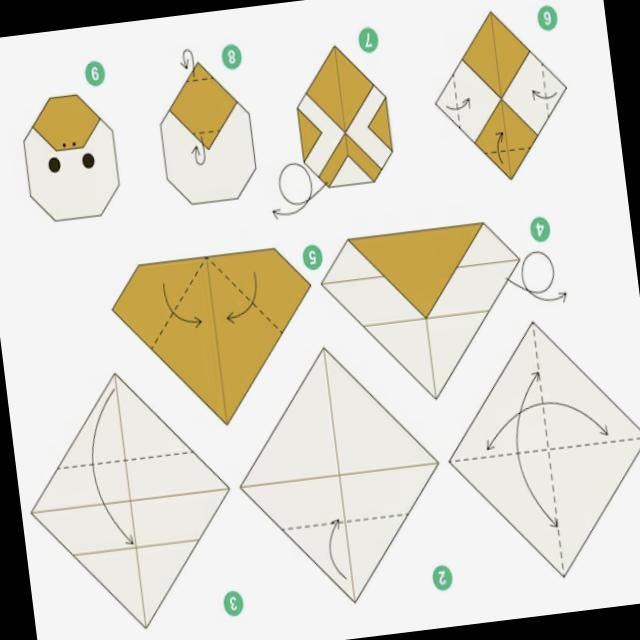arrow: (90, 389, 132, 544), (486, 400, 606, 448), (514, 415, 557, 526), (506, 247, 566, 301), (272, 158, 324, 218), (162, 283, 201, 327), (226, 271, 256, 322), (328, 518, 345, 578), (444, 98, 469, 110), (191, 143, 204, 164), (181, 49, 193, 69), (495, 131, 502, 162), (531, 90, 555, 99)
fold-line: (526, 318, 568, 580), (318, 341, 359, 605), (110, 368, 150, 632), (236, 457, 441, 492), (27, 483, 232, 518), (444, 431, 640, 466), (204, 253, 285, 336), (146, 257, 208, 353), (200, 247, 232, 428), (486, 6, 515, 183), (276, 505, 416, 535), (64, 533, 205, 562), (53, 444, 198, 472), (355, 304, 497, 330), (451, 251, 526, 272), (422, 316, 439, 402), (448, 65, 463, 134), (536, 58, 552, 120), (482, 142, 534, 158), (189, 126, 225, 138), (182, 74, 218, 86)
